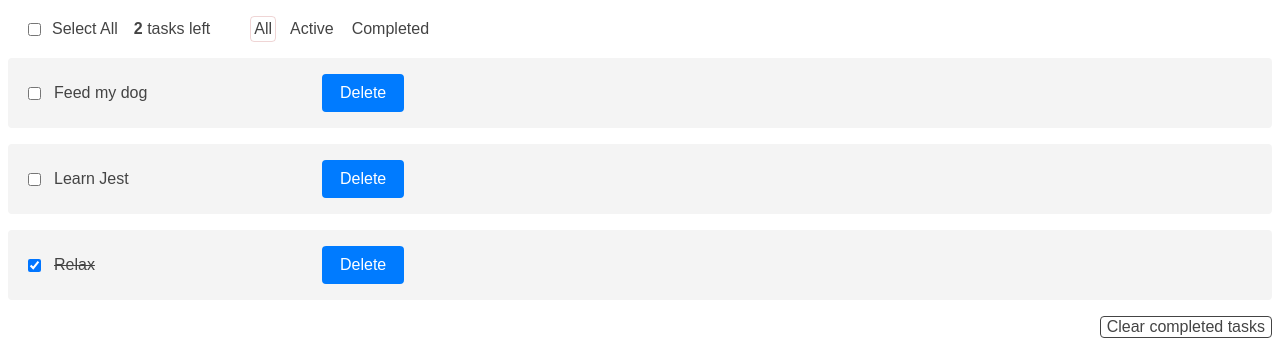
Test case: Should select all tasks
The width and height of the screenshot is (1280, 355).
Expected: the element with test id "todoCount" reads "2 tasks left", [134,20,210,38]
Click the checkbox with test id "selectAll".
click(34, 29)  # box [28,22,41,36]
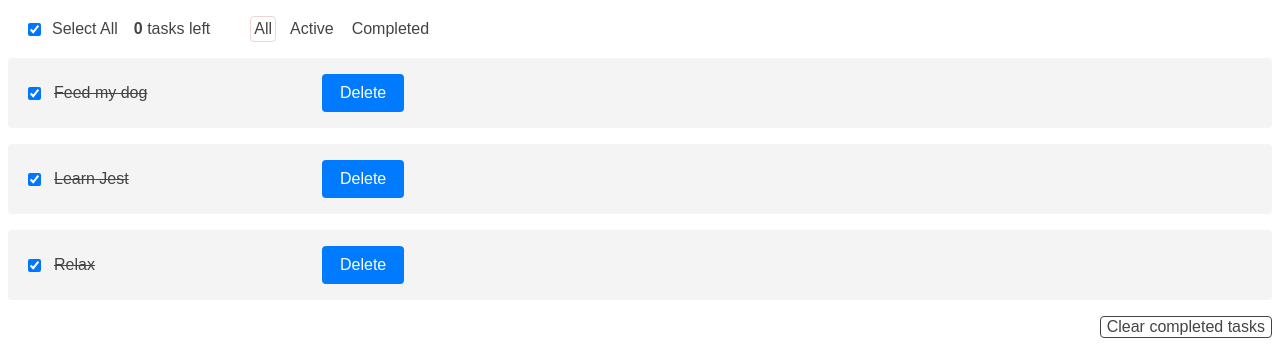
Expected: the element with test id "todoCount" reads "0 tasks left", [134,20,210,38]
Click the checkbox with test id "selectAll".
click(34, 29)  # box [28,22,41,36]
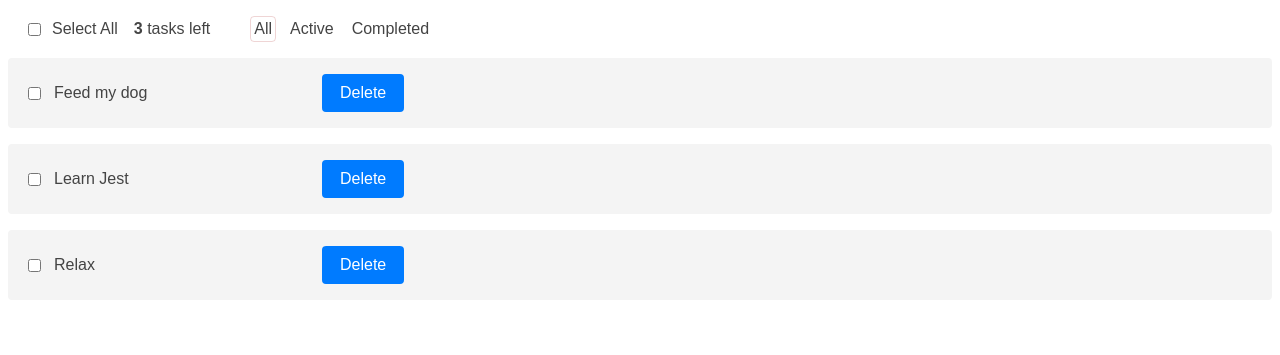
Expected: the element with test id "todoCount" reads "3 tasks left", [134,20,210,38]
